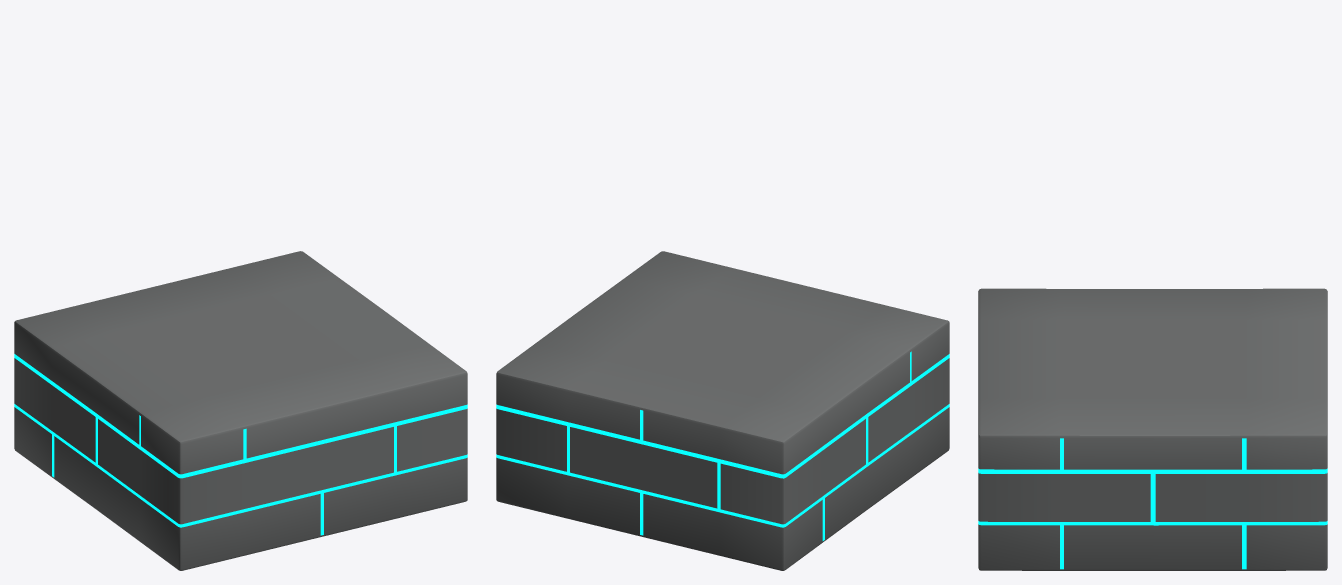
The model's file is Supercomputer.fbx.
3 views of the same model, side by side, from view 1: azimuth 30°, elevation 25°; view 2: azimuth 150°, elevation 25°; view 3: azimuth 270°, elevation 25° (orthographic). The views are drawn at different scales.
Visible parts, largest first — view 1: SuperComputer; view 2: SuperComputer; view 3: SuperComputer.
Part boxes in pixels (x1,y1,x2,y2): SuperComputer: (14, 251, 467, 570); SuperComputer: (496, 251, 949, 570); SuperComputer: (978, 288, 1327, 570).
Bounding box in the file's own units: 120 × 179 × 120.
